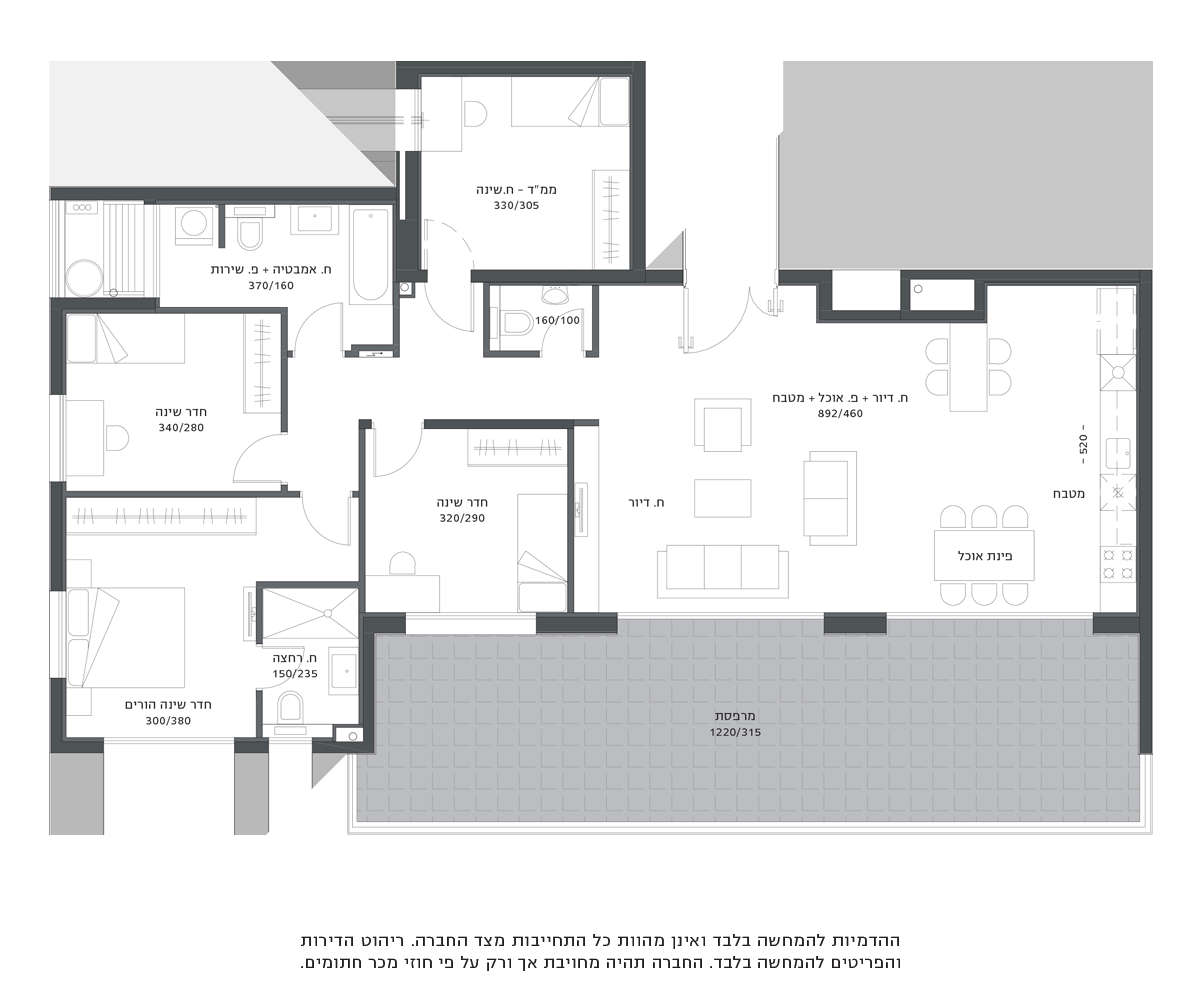door: (677, 294, 748, 356), (228, 430, 281, 487), (302, 500, 355, 557), (373, 432, 426, 489), (297, 294, 350, 351), (423, 292, 476, 349)
wall: (48, 186, 398, 203), (1135, 271, 1151, 627), (401, 59, 642, 78), (631, 92, 649, 283), (470, 269, 617, 287), (813, 310, 989, 325), (52, 481, 69, 590), (537, 613, 617, 633), (54, 300, 163, 310)
